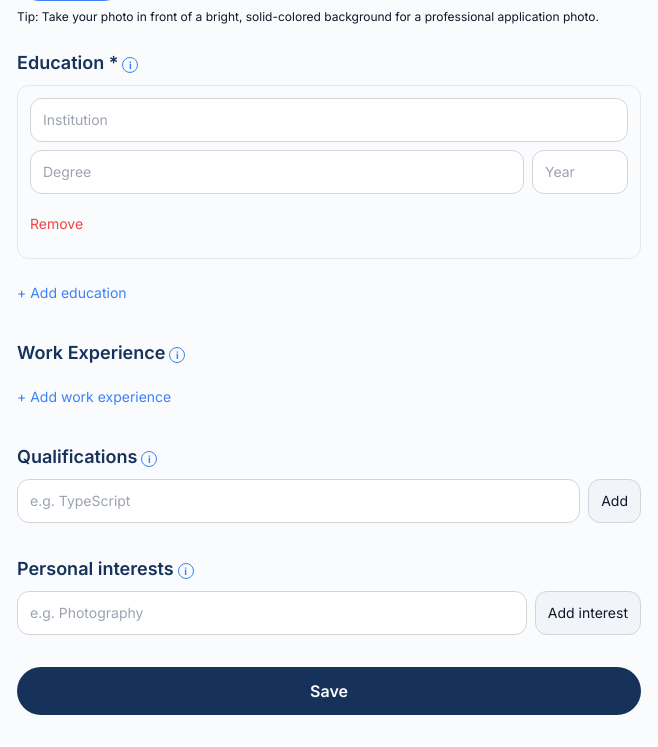
ProfileForm › Englisch (AC1) › zeigt die Berufserfahrungs-Sektion auf Englisch
(page scrolled)
Check: the heading "Work Experience i" is shown, box [17,342,185,363]
Click the button "+ Add work experience": (94, 397) [17,375,171,419]
(page scrolled)
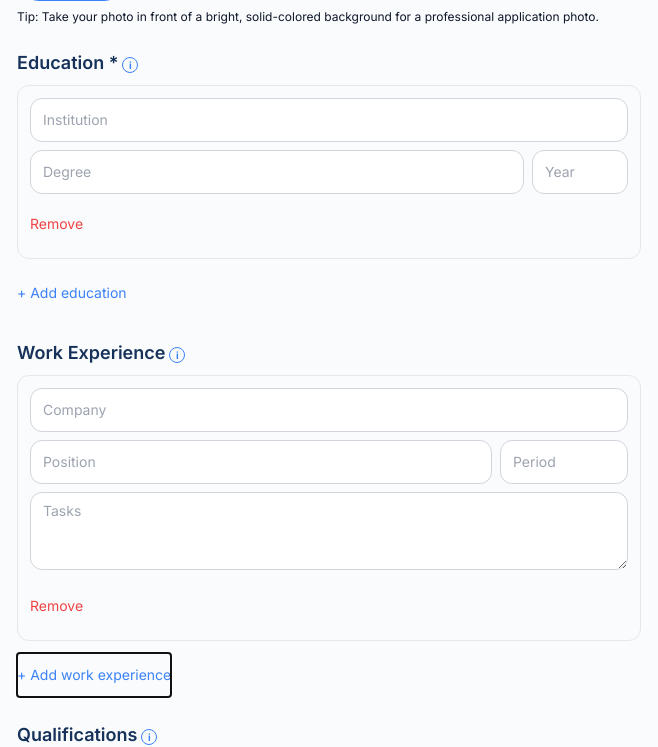
Check: the field with placeholder "Company" is shown, box [30,388,628,432]
Check: the field with placeholder "Position" is shown, box [30,440,492,484]
Check: the field with placeholder "Period" is shown, box [500,440,628,484]
